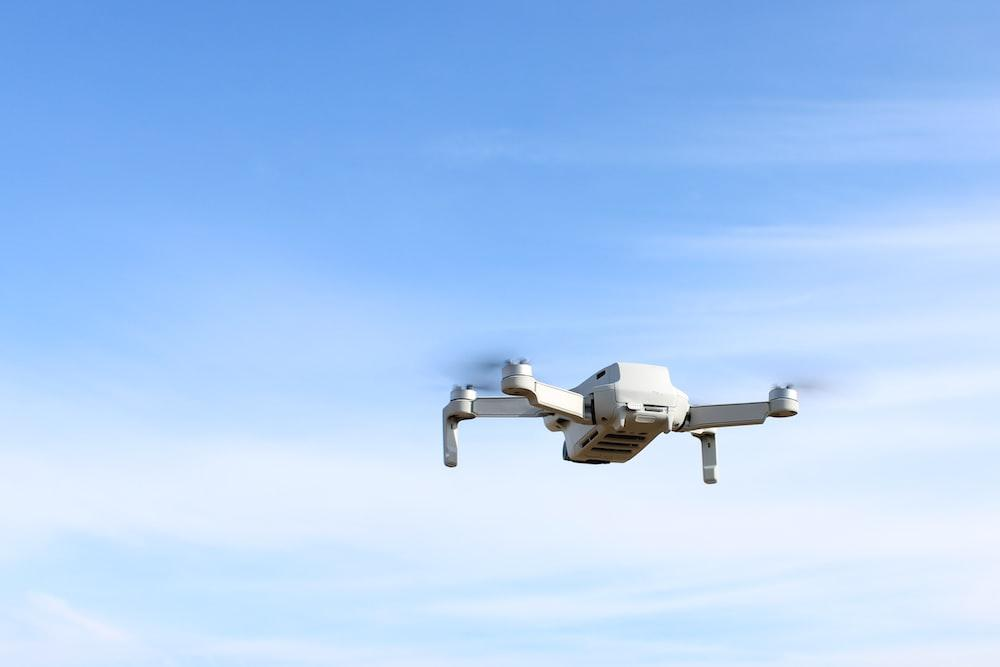drone_other: (433, 340, 827, 486)
